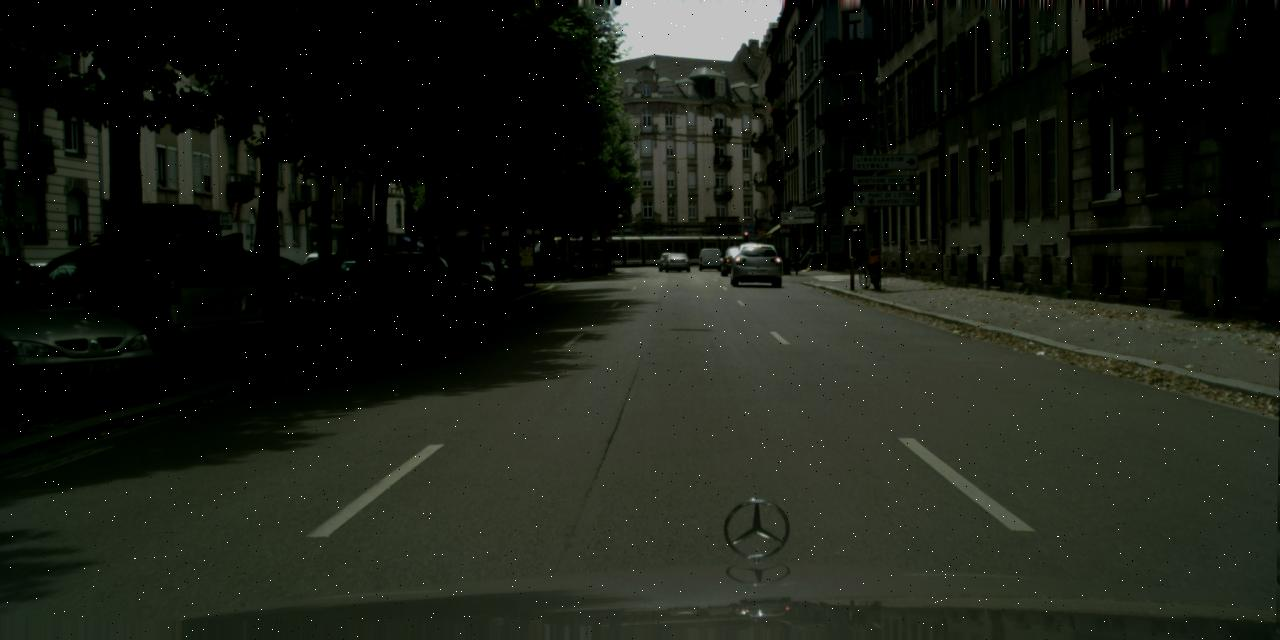ped: (602, 248, 612, 276)
